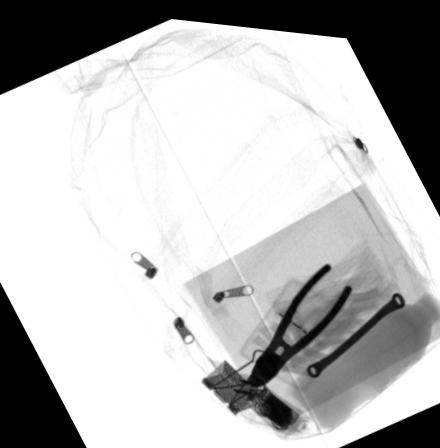Pliers: (249, 255, 349, 383)
Wrench: (306, 283, 406, 370)
